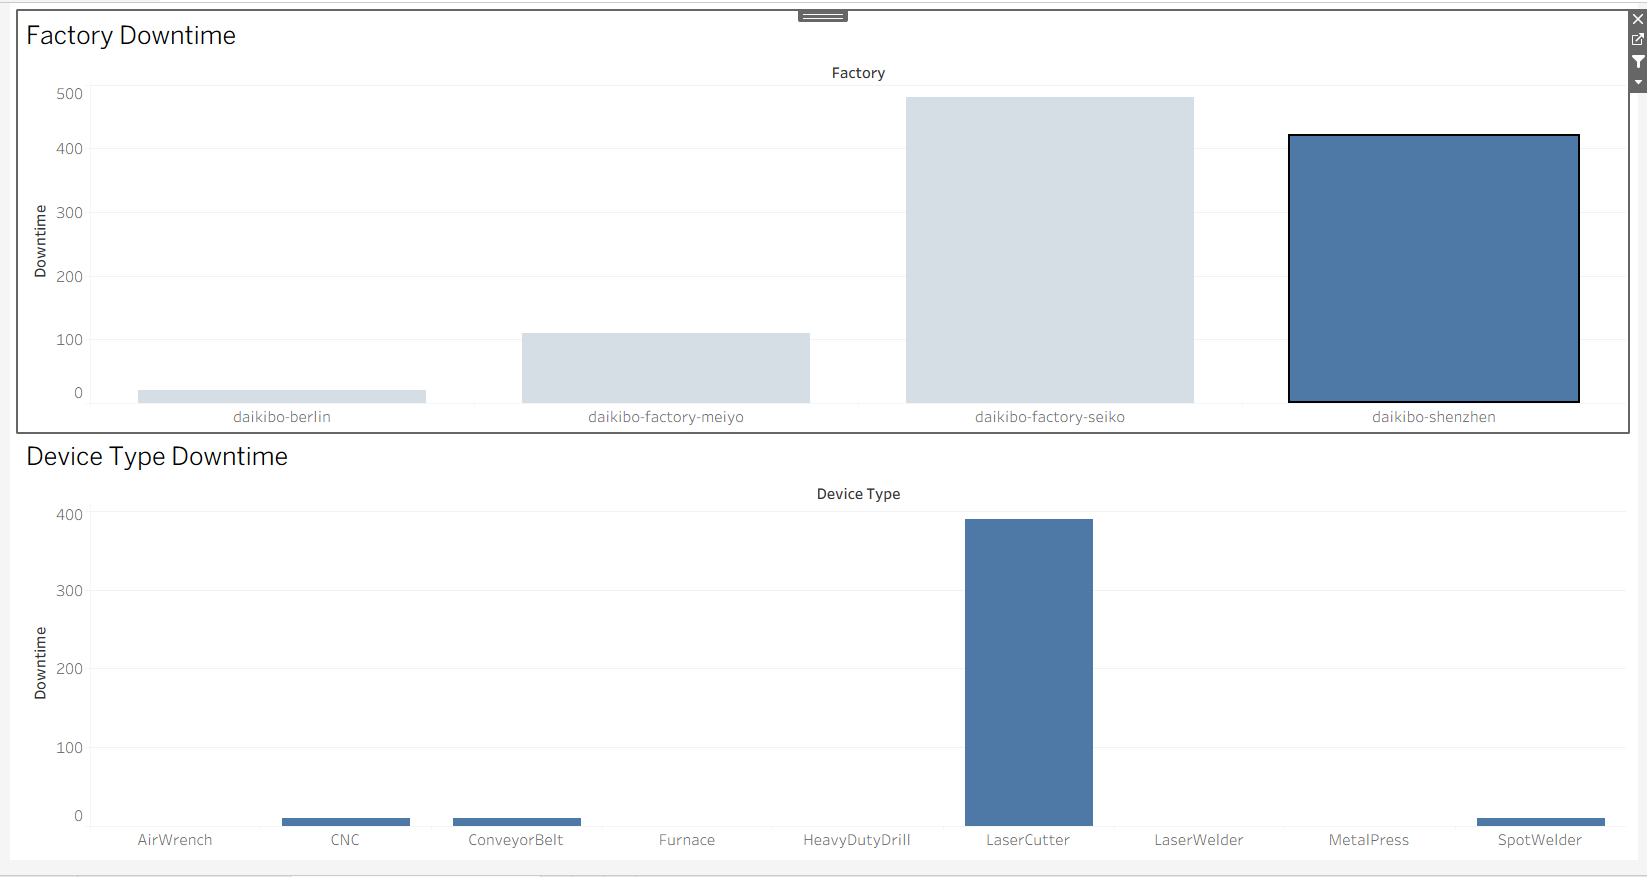

This screenshot's page, from the dashboard's own definition file:
{"tool":"tableau","page":{"name":"Interactive Machine Downtime Dashboard","canvas":[1000,1000],"units":"permille","ordinal":0},"visuals":[{"type":"worksheet","title":"Down Time per Factory","mark":"Automatic","rows":["Calculation_0344204930338816"],"cols":["factory"],"box":[4.8,8.8,990.3,491.2]},{"type":"worksheet","title":"Down Time per Device Type","mark":"Automatic","rows":["Calculation_0344204930338816"],"cols":["deviceType"],"box":[4.8,500,990.3,491.2]}]}

Visuals, with their boxes on the dashboard's canvas, which has no fixed pixel size, in thousandths of its width and height (x1, y1, x2, y2). These are canvas units, not pixel positions in the 1647x877 screenshot, which may show the page scaled, cropped or inside an application window:
"Down Time per Factory" worksheet: 5 9 995 500
"Down Time per Device Type" worksheet: 5 500 995 991
